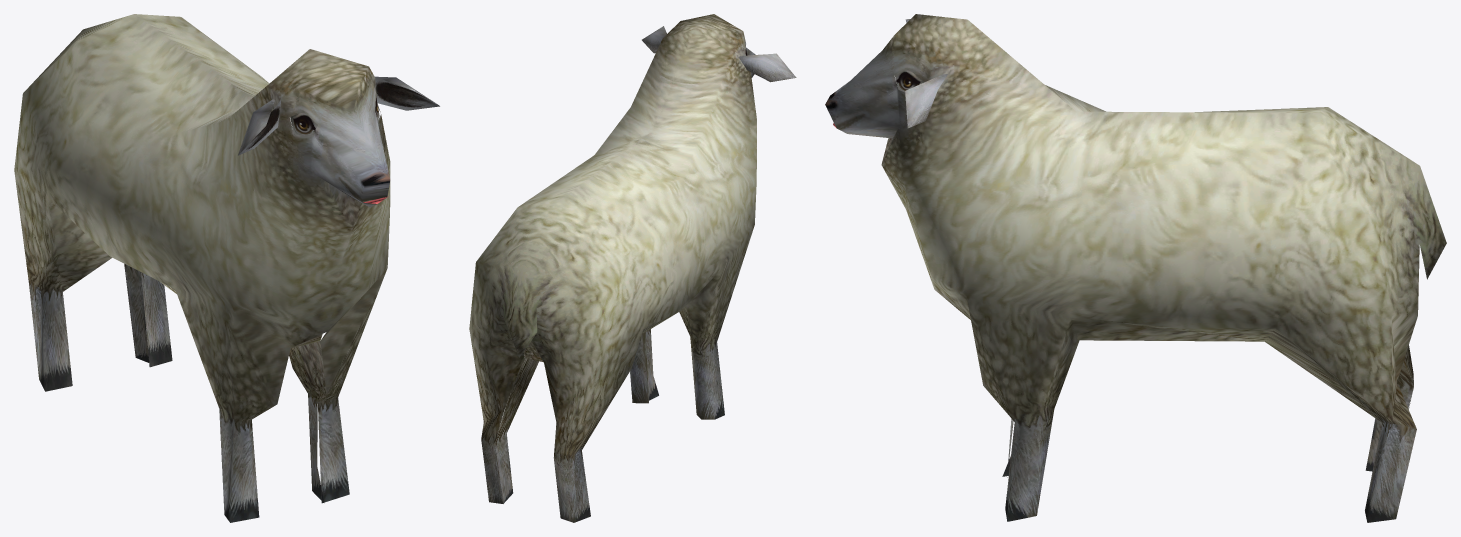
Rendered from sheep-stand1-cbj_LOD01.gltf.
3 views of the same model, side by side, from view 1: azimuth 30°, elevation 25°; view 2: azimuth 150°, elevation 25°; view 3: azimuth 270°, elevation 25° (orthographic). The views are drawn at different scales.
Parts seen in each view (by area): view 1: node2.001; view 2: node2.001; view 3: node2.001.
Part boxes in pixels (x1,y1,x2,y2): node2.001: [14, 14, 439, 522]; node2.001: [469, 14, 796, 522]; node2.001: [825, 14, 1446, 522].
Size of the model in its own units: 0.5887 by 1.23 by 1.46.
